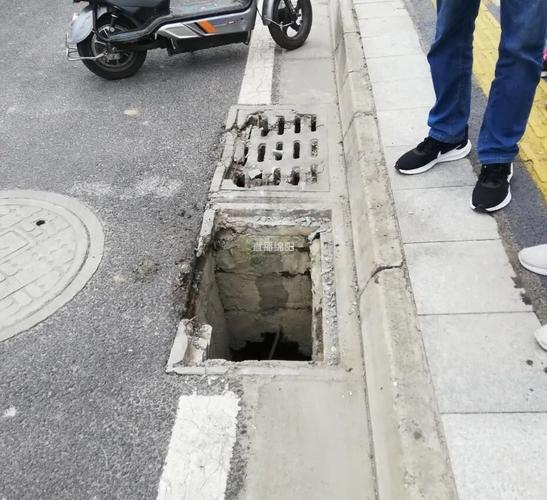lose: (159, 187, 365, 391)
